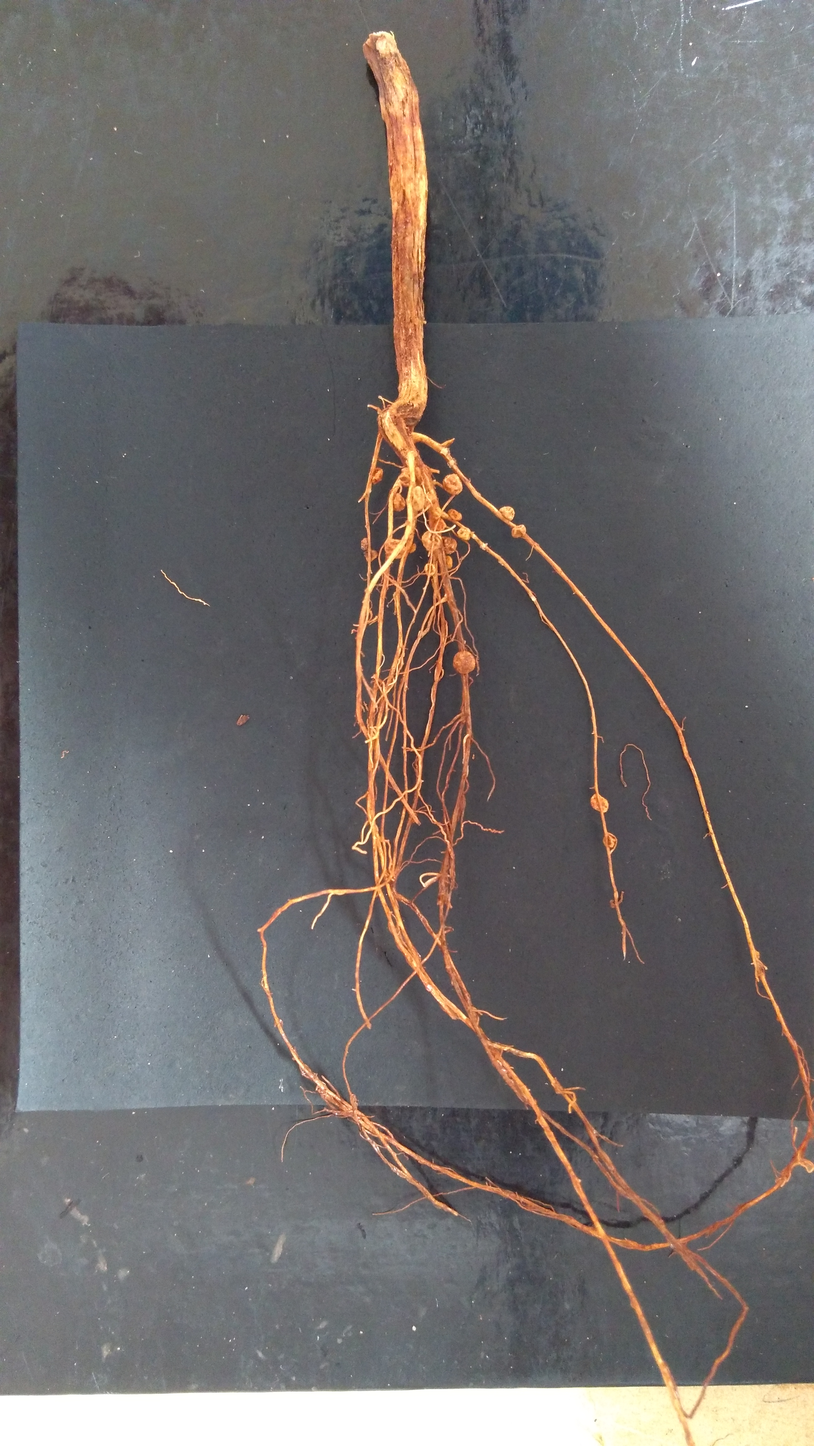nodule: (452, 651, 476, 674), (399, 466, 423, 487), (442, 474, 463, 496), (384, 539, 407, 559), (421, 530, 442, 551), (411, 485, 426, 511), (590, 793, 609, 813), (442, 535, 457, 555), (498, 506, 515, 521), (393, 492, 406, 511), (510, 524, 527, 538), (447, 508, 462, 522), (433, 518, 447, 532), (457, 527, 471, 541), (371, 468, 383, 484), (364, 549, 378, 562), (424, 563, 437, 577), (602, 834, 615, 848), (445, 555, 453, 570), (447, 457, 457, 469), (360, 537, 369, 550), (440, 446, 451, 456), (405, 459, 418, 467), (433, 506, 442, 517), (409, 543, 417, 553), (405, 519, 410, 527)
